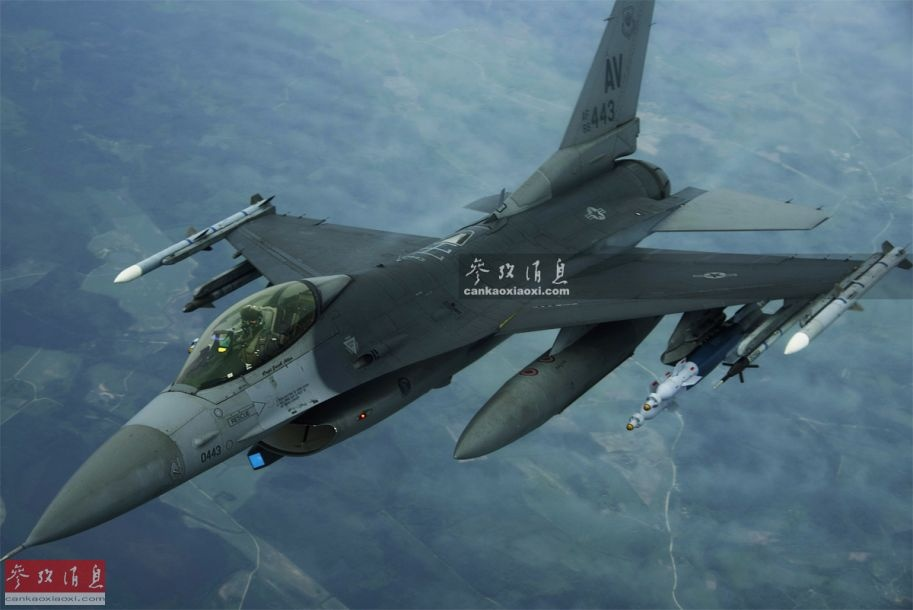airplane: (4, 2, 913, 564)
